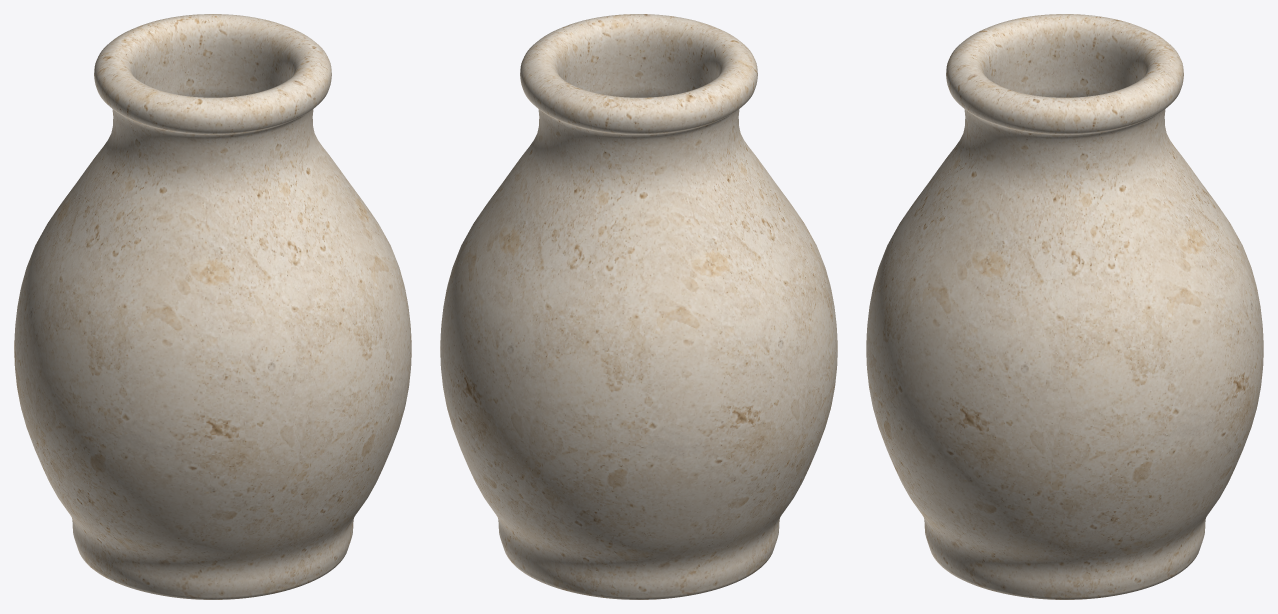
The model's file is vase-small-white.glb.
3 renders of one model, left to right at view 1: azimuth 30°, elevation 25°; view 2: azimuth 150°, elevation 25°; view 3: azimuth 270°, elevation 25°, orthographic.
Visible parts, largest first — view 1: vase-small-white; view 2: vase-small-white; view 3: vase-small-white.
Boxes of the visible parts, box(x1,y1,x2,y2) form: vase-small-white: box(14, 14, 411, 599); vase-small-white: box(440, 14, 837, 599); vase-small-white: box(866, 14, 1263, 599).
Size of the model in its own units: 0.0167 by 0.0226 by 0.0167.
Materials: 1 (1 with a texture image).
